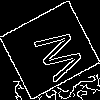W: (25, 25, 86, 89)
